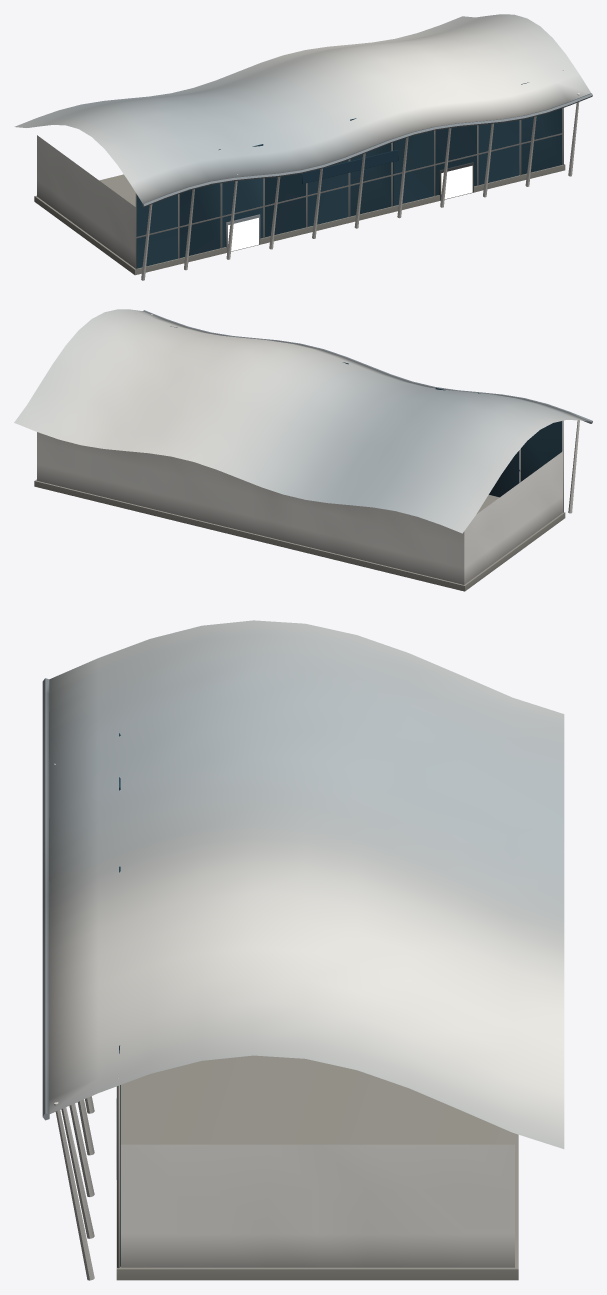
The model's file is terminal_hall.glb.
3 renders of one model, top to bottom at view 1: azimuth 30°, elevation 25°; view 2: azimuth 150°, elevation 25°; view 3: azimuth 270°, elevation 25°, orthographic. The views are drawn at different scales.
Visible parts, largest first — view 1: terminal_hall_mesh; view 2: terminal_hall_mesh; view 3: terminal_hall_mesh.
Part boxes in pixels (x1,y1,x2,y2): terminal_hall_mesh: [14, 14, 592, 280]; terminal_hall_mesh: [14, 309, 592, 591]; terminal_hall_mesh: [42, 620, 564, 1280].
Size of the model in its own units: 42.04 by 10.91 by 21.16.
